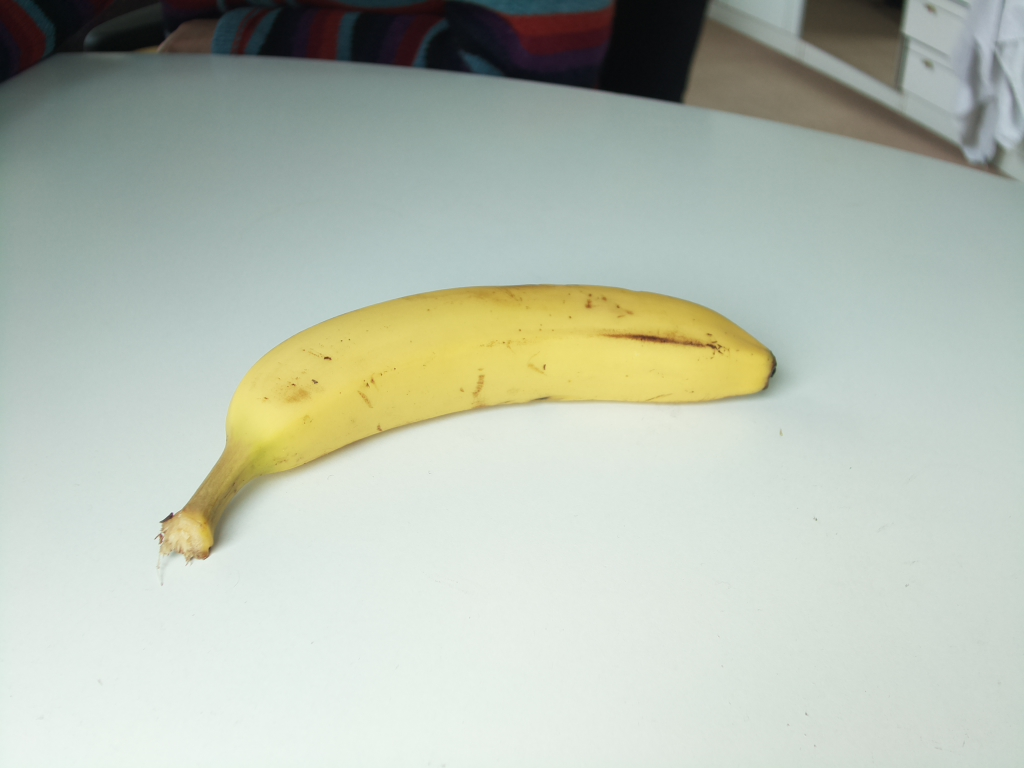banana: (156, 291, 777, 566)
